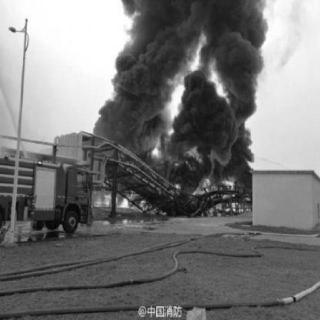Fire: (151, 138, 247, 210), (169, 35, 227, 123), (95, 174, 163, 222)
Smoke: (190, 1, 268, 137), (103, 1, 173, 147)
